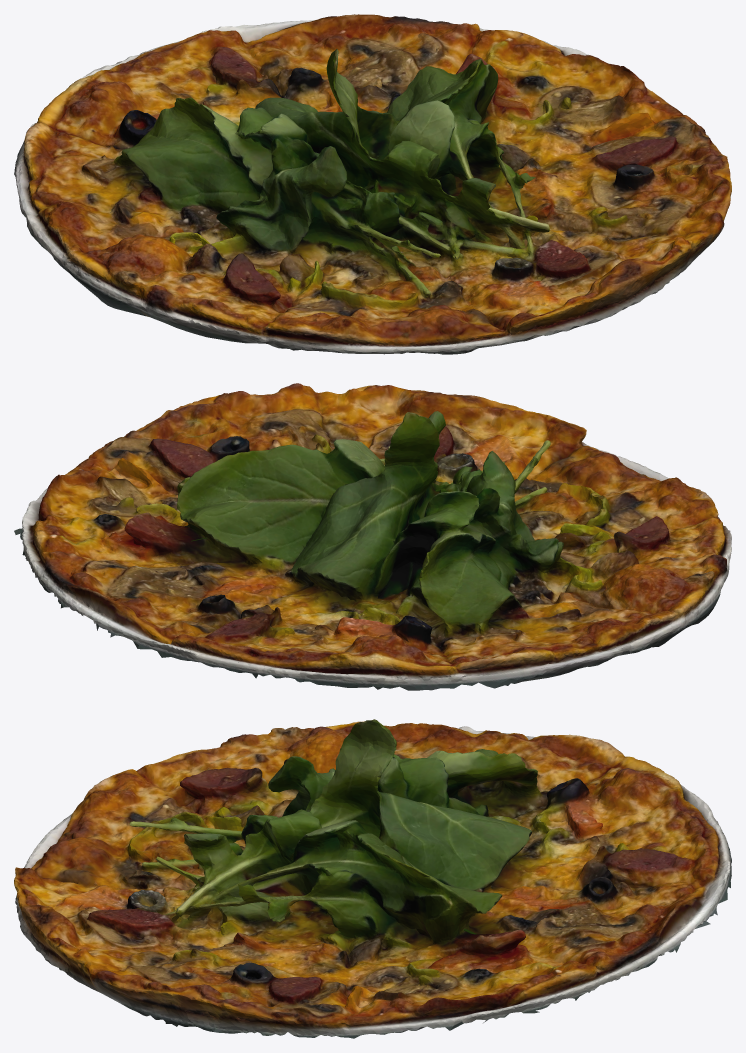
Rendered from Pizza-v1.glb.
The picture shows the model from 3 angles, top to bottom: view 1: azimuth 30°, elevation 25°; view 2: azimuth 150°, elevation 25°; view 3: azimuth 270°, elevation 25°; orthographic projection.
Visible parts, largest first — view 1: Mesh_0; view 2: Mesh_0; view 3: Mesh_0.
Boxes of the visible parts, x1,y1,x2,y2 form: Mesh_0: (14,14,731,354); Mesh_0: (14,383,731,690); Mesh_0: (14,719,731,1038).
Size of the model in its own units: 0.2852 by 0.0765 by 0.2851.
Materials: 1 (1 with a texture image).
